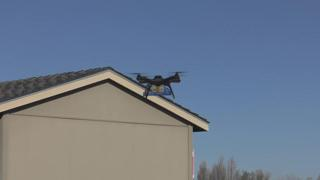UAV: (130, 72, 186, 99)
